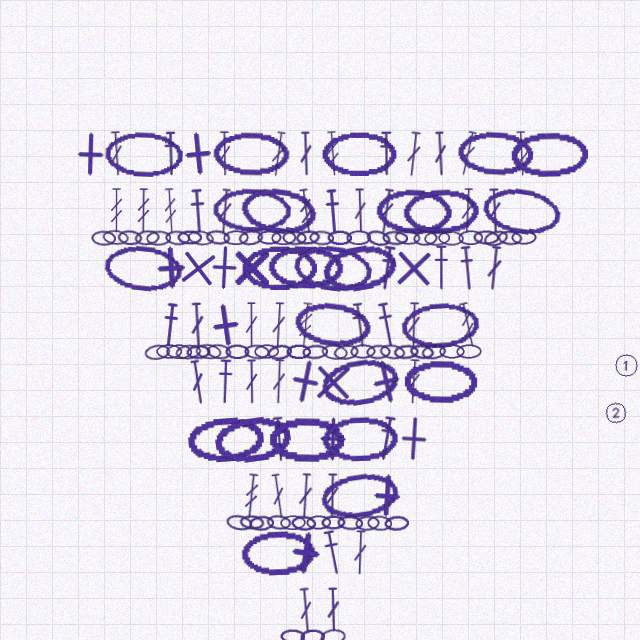chain: (318, 468, 402, 524), (480, 183, 564, 239), (319, 239, 401, 296), (318, 354, 401, 410), (238, 183, 320, 238), (291, 241, 374, 295), (211, 412, 293, 466), (292, 298, 374, 352), (102, 242, 185, 294), (400, 300, 481, 350), (185, 414, 265, 464), (456, 129, 534, 178), (104, 130, 183, 178), (212, 187, 291, 234), (375, 187, 452, 235), (402, 187, 479, 235), (267, 244, 345, 291), (212, 131, 291, 177), (240, 529, 317, 576), (321, 415, 398, 462), (510, 131, 588, 177), (268, 416, 344, 462), (403, 359, 479, 405), (321, 131, 398, 176), (241, 245, 317, 290), (482, 228, 510, 248), (365, 228, 392, 248), (225, 513, 253, 532), (144, 343, 171, 361), (175, 343, 202, 361), (266, 343, 293, 361), (321, 343, 348, 361), (379, 343, 406, 361), (187, 229, 214, 247), (333, 343, 359, 361), (409, 343, 435, 361), (421, 343, 447, 361), (195, 343, 222, 360), (102, 229, 129, 246), (394, 229, 421, 246), (239, 514, 265, 531), (266, 514, 292, 531), (206, 343, 232, 360), (117, 229, 143, 246), (134, 229, 160, 246), (205, 229, 231, 246), (238, 229, 264, 246), (295, 229, 321, 246), (337, 515, 363, 531), (244, 344, 270, 360), (302, 344, 328, 360), (393, 344, 419, 360), (382, 230, 408, 246), (424, 230, 450, 246), (438, 230, 464, 246), (497, 230, 523, 246), (249, 515, 274, 531), (291, 515, 316, 531), (355, 515, 380, 531), (367, 515, 392, 531), (384, 515, 409, 531), (186, 344, 211, 360), (366, 344, 391, 360), (91, 230, 116, 246), (146, 230, 171, 246), (165, 230, 190, 246), (282, 230, 307, 246), (309, 230, 334, 246), (413, 230, 438, 246), (280, 515, 306, 530), (156, 344, 182, 359), (166, 344, 192, 359), (350, 344, 376, 359), (439, 344, 465, 359), (456, 344, 482, 359), (223, 230, 249, 245), (473, 230, 499, 245), (511, 230, 537, 245), (306, 515, 331, 530), (321, 515, 346, 530), (225, 344, 250, 359), (254, 344, 279, 359), (286, 344, 311, 359), (177, 230, 202, 245), (257, 230, 282, 245), (271, 230, 296, 245), (327, 230, 352, 245), (346, 230, 371, 245), (458, 230, 483, 245), (320, 628, 346, 640), (280, 629, 305, 640), (300, 629, 325, 640)
double: (456, 130, 480, 177), (268, 473, 289, 519), (187, 359, 208, 405), (376, 188, 397, 234), (268, 131, 289, 177), (485, 245, 504, 291), (404, 131, 423, 177), (297, 587, 315, 633), (216, 188, 234, 234), (297, 473, 314, 518), (405, 359, 422, 404), (189, 302, 206, 347), (270, 302, 287, 347), (459, 188, 476, 233), (486, 188, 503, 233), (108, 131, 125, 176), (432, 131, 449, 176), (325, 587, 341, 632), (352, 530, 368, 575), (271, 359, 287, 404), (406, 302, 422, 347), (352, 188, 368, 233), (298, 131, 314, 176), (325, 473, 340, 518), (244, 359, 259, 404), (244, 302, 259, 347), (217, 131, 232, 176)
half_double: (320, 529, 345, 576), (374, 415, 399, 462), (374, 301, 399, 348), (349, 302, 371, 348), (376, 245, 398, 291), (160, 302, 181, 348), (457, 245, 478, 291), (269, 416, 289, 462), (188, 188, 208, 234), (323, 188, 343, 234), (216, 359, 234, 404), (432, 245, 450, 290), (162, 131, 180, 176), (378, 131, 395, 176)
noise: (613, 352, 639, 378), (603, 400, 628, 425)
single: (279, 355, 332, 408), (360, 355, 413, 408), (281, 528, 331, 578), (200, 300, 250, 350), (173, 243, 223, 293), (173, 129, 222, 178), (363, 472, 410, 519), (390, 415, 437, 462), (147, 244, 194, 291), (201, 244, 248, 291), (310, 416, 356, 462), (310, 359, 356, 405), (67, 131, 113, 177), (391, 245, 436, 291), (229, 245, 274, 290)
treble: (456, 301, 480, 348), (296, 188, 316, 234), (242, 473, 261, 519), (296, 302, 315, 348), (324, 131, 342, 176), (162, 188, 179, 233), (513, 131, 530, 176), (109, 188, 124, 233), (136, 188, 151, 233)
